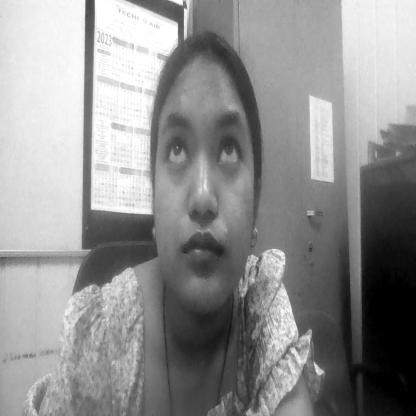Normal: (153, 52, 255, 312)
